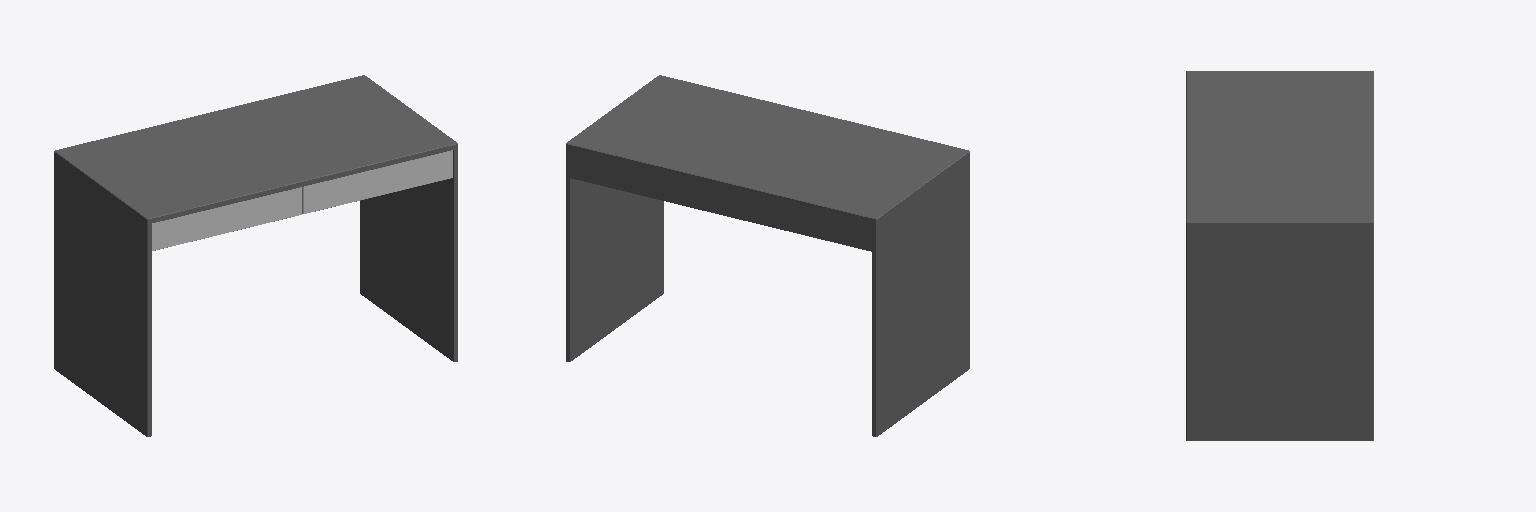
The model's file is desk2.obj.
3 views of the same model, side by side, from view 1: azimuth 30°, elevation 25°; view 2: azimuth 150°, elevation 25°; view 3: azimuth 270°, elevation 25° (orthographic).
Visible parts, largest first — view 1: Working_Desk; view 2: Working_Desk; view 3: Working_Desk.
Part boxes in pixels (left/top/right/bottom): Working_Desk: left=54, top=75, right=457, bottom=436; Working_Desk: left=566, top=75, right=969, bottom=436; Working_Desk: left=1186, top=71, right=1373, bottom=440.
Size of the model in its own units: 1.15 by 0.77 by 0.6.